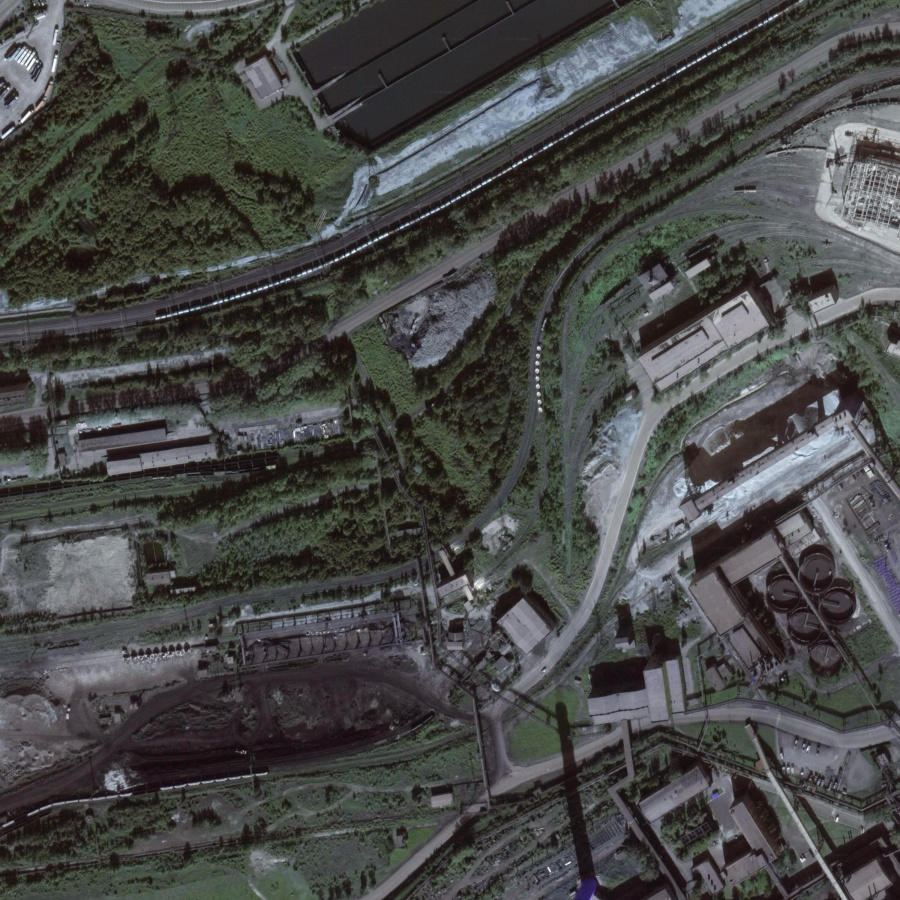PowerPlant: (3, 638, 443, 802)
